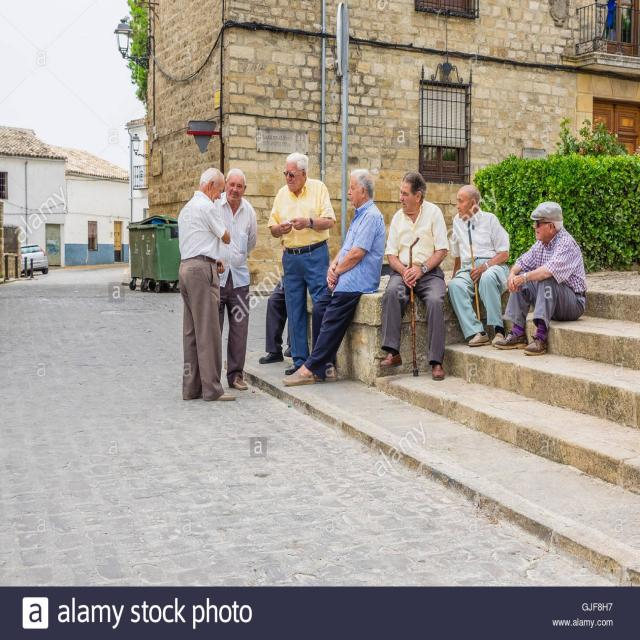body: (280, 165, 388, 388), (266, 150, 338, 378), (376, 168, 451, 382), (491, 200, 588, 358), (175, 164, 238, 403), (445, 183, 511, 349), (212, 167, 258, 392), (258, 245, 292, 364)
